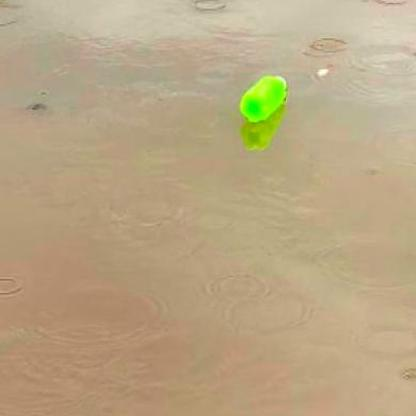plastic bottle: (240, 75, 287, 122)
